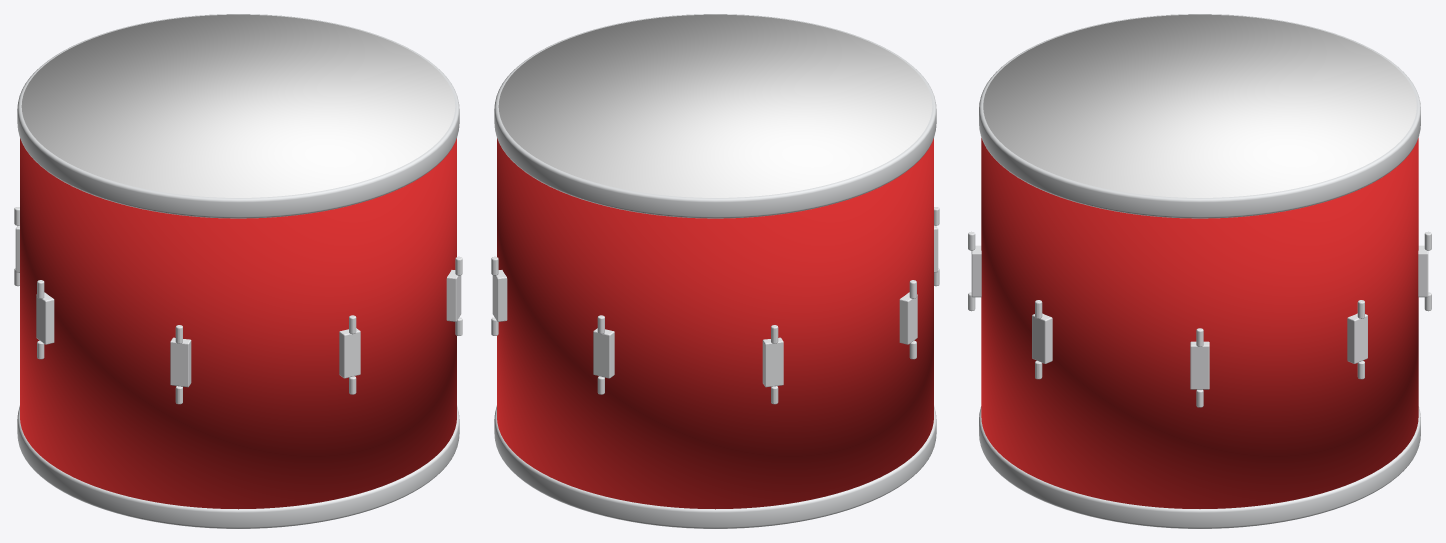
The model's file is drum.glb.
3 renders of one model, left to right at view 1: azimuth 30°, elevation 25°; view 2: azimuth 150°, elevation 25°; view 3: azimuth 270°, elevation 25°, orthographic.
Parts seen in each view (by area): view 1: Drum_Shell, Drum_HeadTop, Drum_RimTop, Drum_RimBottom, Drum_Lugs; view 2: Drum_Shell, Drum_HeadTop, Drum_RimTop, Drum_RimBottom, Drum_Lugs; view 3: Drum_Shell, Drum_HeadTop, Drum_RimTop, Drum_RimBottom, Drum_Lugs.
Part boxes in pixels (x1=…): Drum_Shell: x1=20, y1=138, x2=456, y2=509; Drum_HeadTop: x1=21, y1=14, x2=455, y2=197; Drum_RimTop: x1=17, y1=14, x2=459, y2=218; Drum_RimBottom: x1=17, y1=406, x2=459, y2=528; Drum_Lugs: x1=14, y1=207, x2=462, y2=404; Drum_Shell: x1=497, y1=138, x2=933, y2=509; Drum_HeadTop: x1=498, y1=14, x2=932, y2=197; Drum_RimTop: x1=494, y1=14, x2=936, y2=218; Drum_RimBottom: x1=494, y1=406, x2=936, y2=528; Drum_Lugs: x1=491, y1=207, x2=939, y2=404; Drum_Shell: x1=981, y1=138, x2=1418, y2=508; Drum_HeadTop: x1=983, y1=14, x2=1416, y2=197; Drum_RimTop: x1=979, y1=14, x2=1420, y2=218; Drum_RimBottom: x1=979, y1=406, x2=1420, y2=528; Drum_Lugs: x1=968, y1=231, x2=1431, y2=407.
Bounding box in the file's own units: 3.82 × 3 × 3.82.
